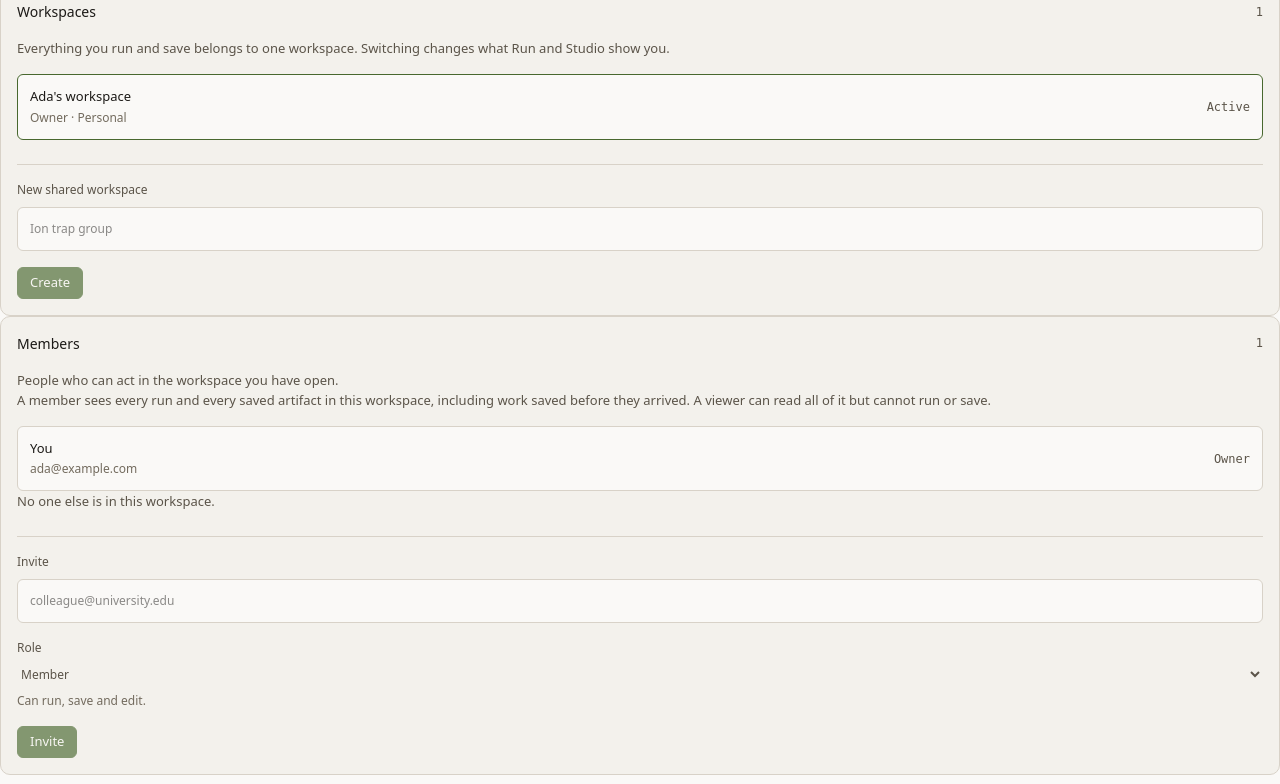
Scenario: workspace sharing: inviting an address with no account on this deployment gets the specific 404 sentence
Check: the text "Ada's workspace" is shown, box left=30, top=87, right=131, bottom=105
Type "nobody@example.com" into the field labelled "Invite" at (640, 601), box left=17, top=579, right=1263, bottom=623
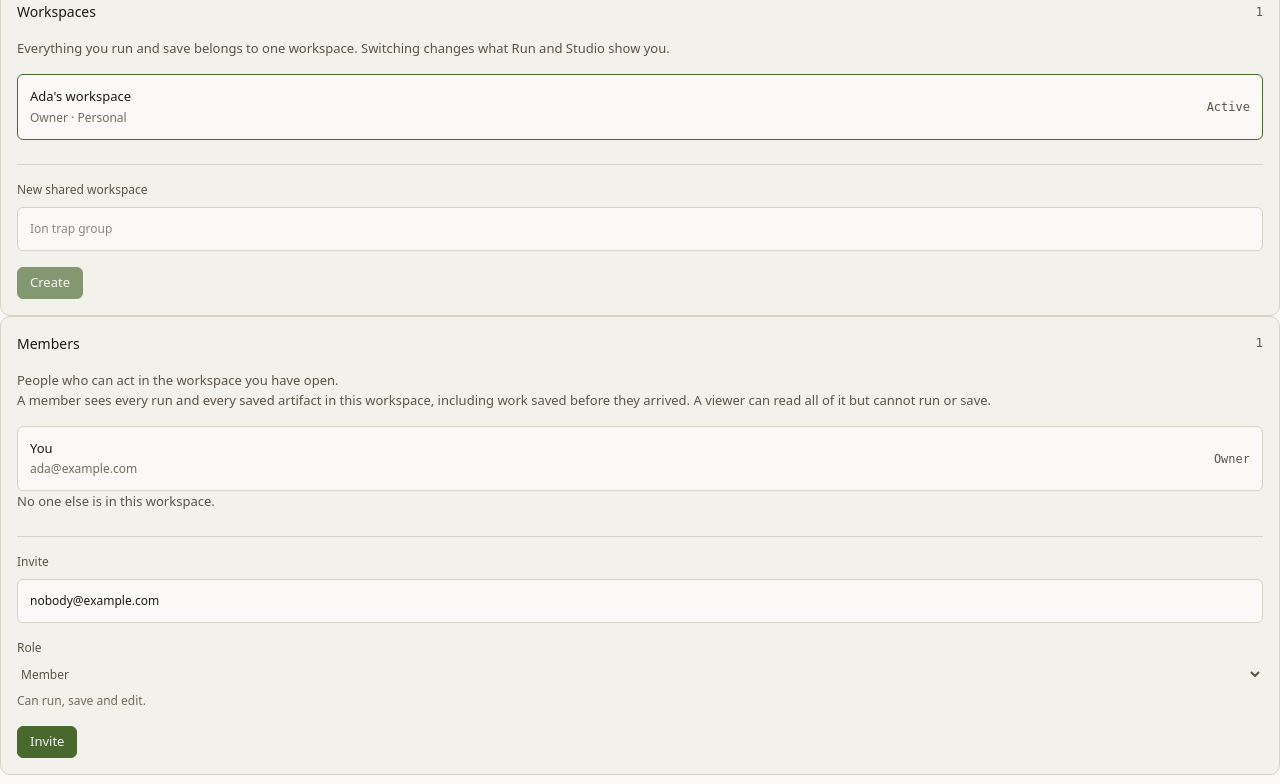
Submit the form labelled "Invite", box left=17, top=536, right=1263, bottom=758
(page scrolled)
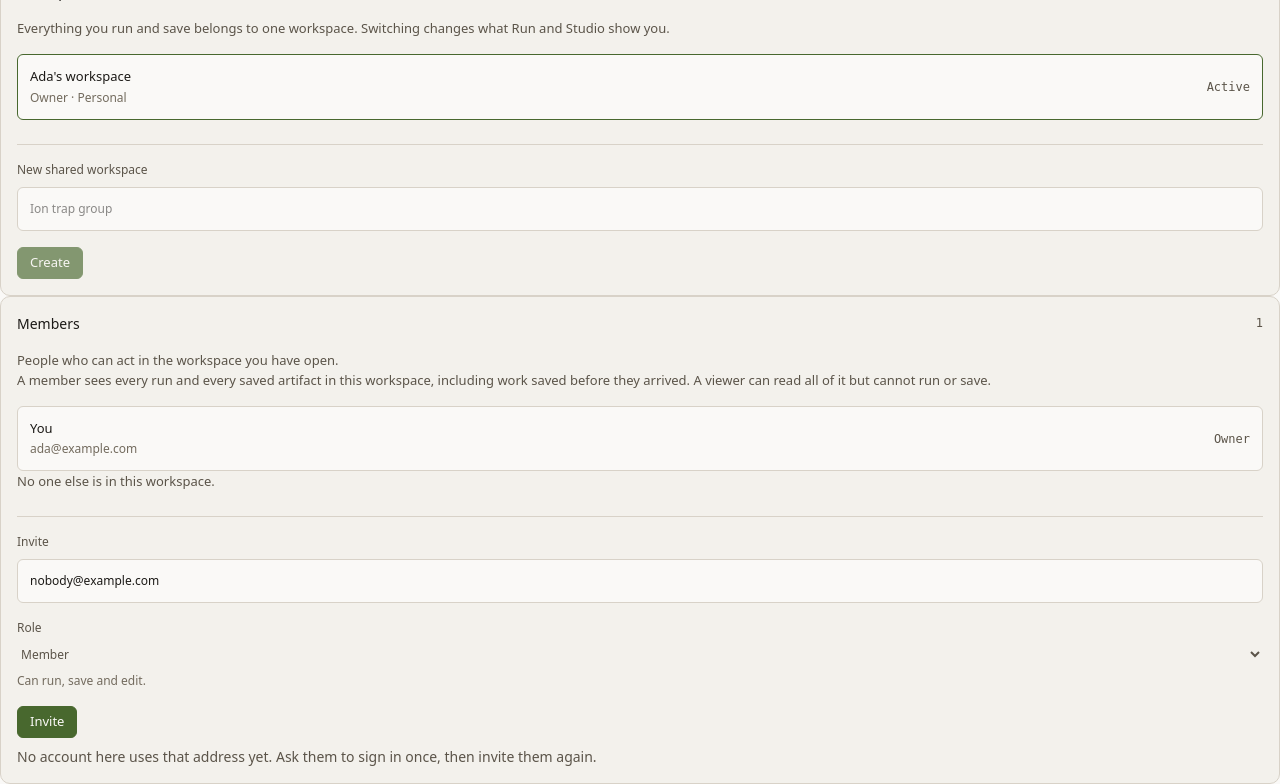
Check: the text "No account here uses that address yet. Ask them to sign in once, then invite them again." is shown, box left=17, top=747, right=597, bottom=766
